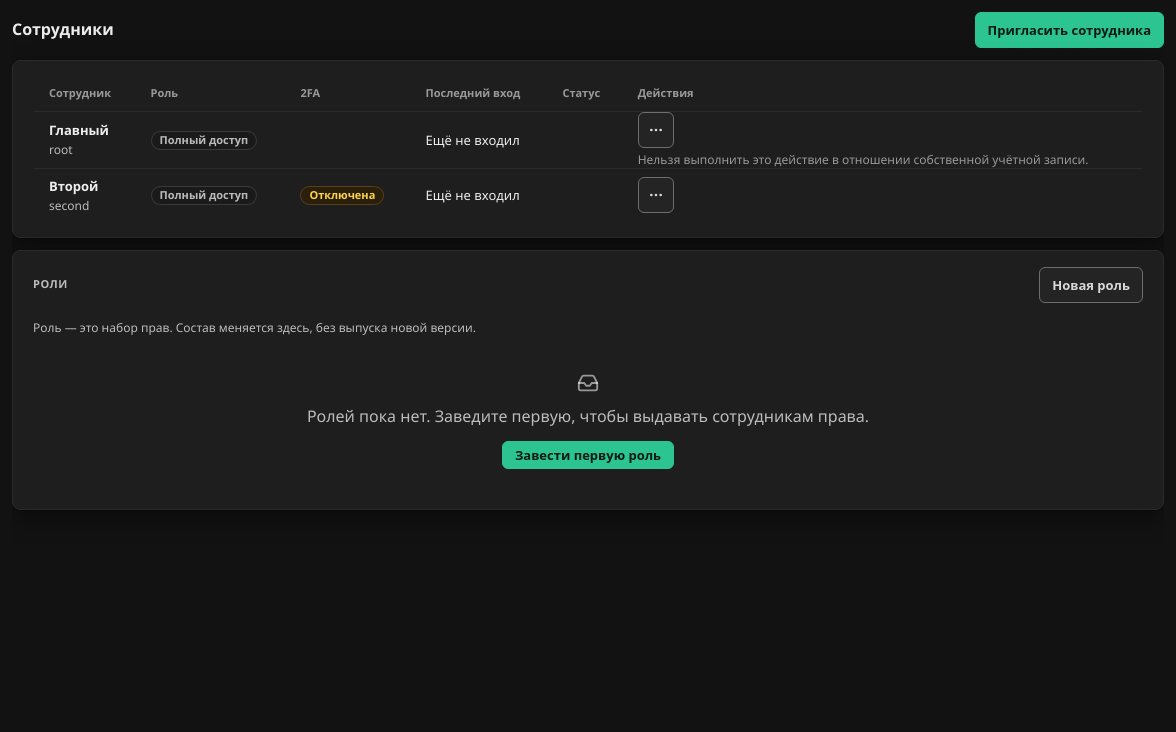
Test: SettingsScreen › у своей строки говорит словами, почему роль и отключение недоступны
expect the text "Второй" is shown: met, box [49, 176, 98, 194]
expect the text "Нельзя выполнить это действие в отношении собственной учётной записи." is shown: met, box [638, 152, 1127, 168]
Click the button named "Ещё действия: Главный": x=656, y=130 [638, 112, 674, 148]
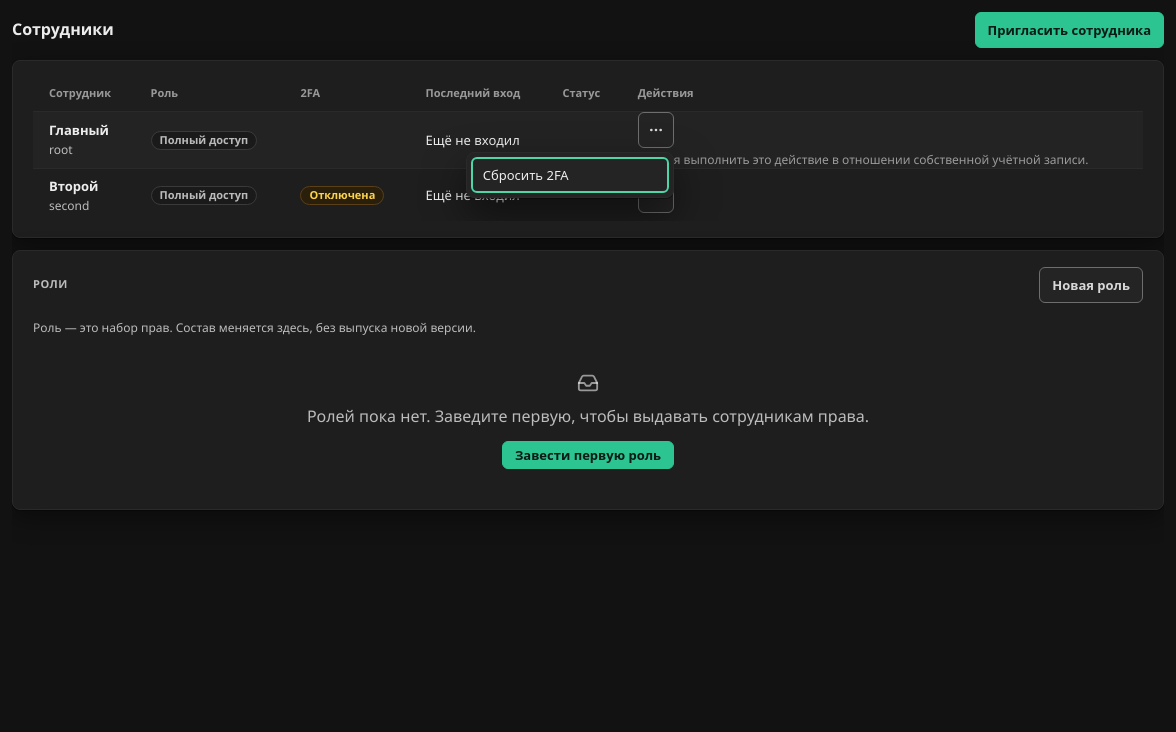
expect the menu item "Сделать поддержкой" is not shown: met
expect the menu item "Сбросить 2FA" is shown: met, box [471, 156, 669, 192]
Press Escape
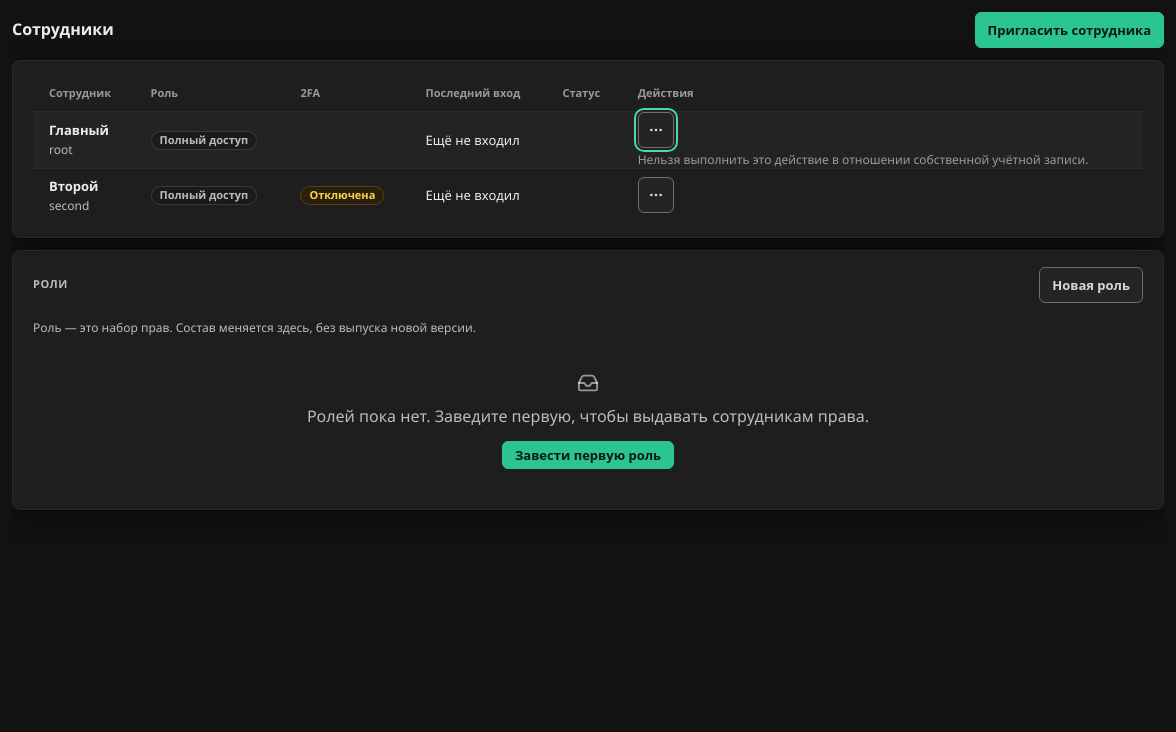
У коллеги ничего не мешает — оба действия на месте.
Click the button named "Ещё действия: Второй": x=656, y=195 [638, 177, 674, 213]
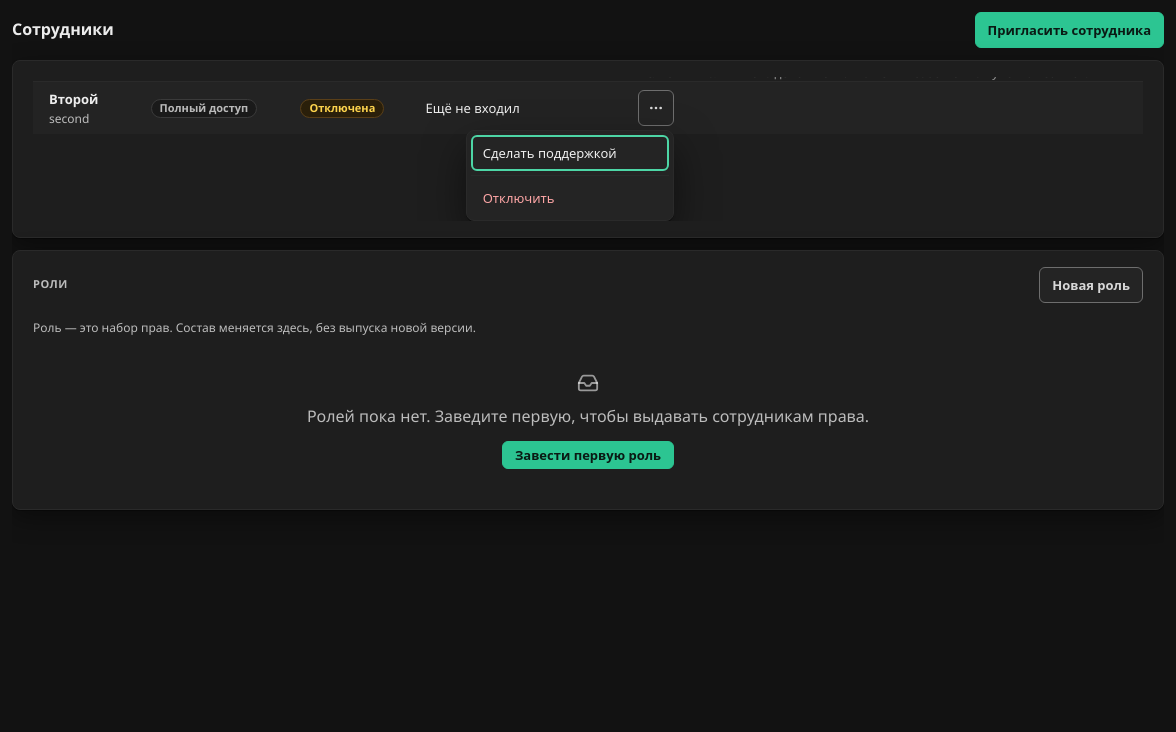
expect the menu item "Сделать поддержкой" is shown: met, box [471, 135, 669, 171]
expect the menu item "Отключить" is shown: met, box [471, 180, 669, 216]
